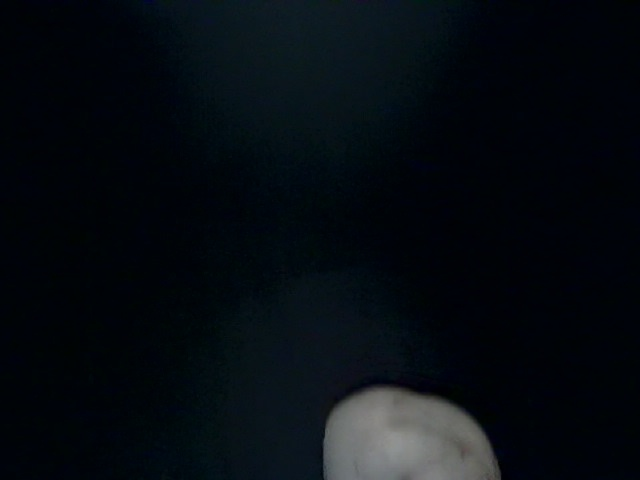QTLJ: (378, 429, 465, 480)
